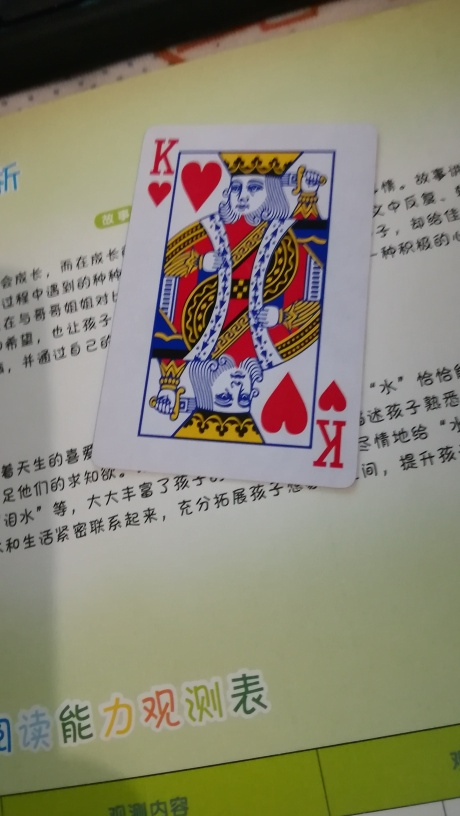hx k: (90, 123, 374, 486)
